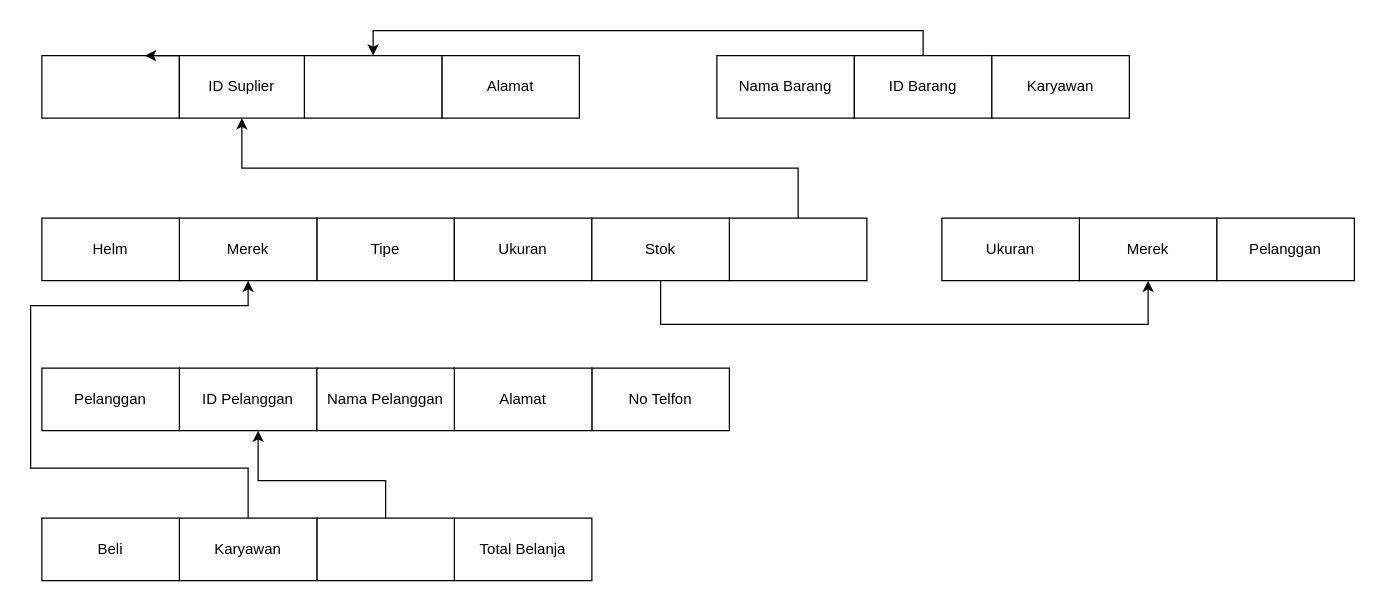
Image size: 1376x603. Some labels were removed from this diagram. The shapes that lost their labels are listed below. From the top down, each one's centre as x and y in pixels, then its label:
At point 110,86: "Suplier".
At point 372,86: "Jenis Barang".
At point 797,249: "Harga".
At point 385,549: "Total Barang".
